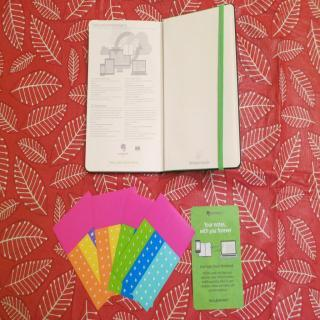book: (73, 13, 257, 187)
